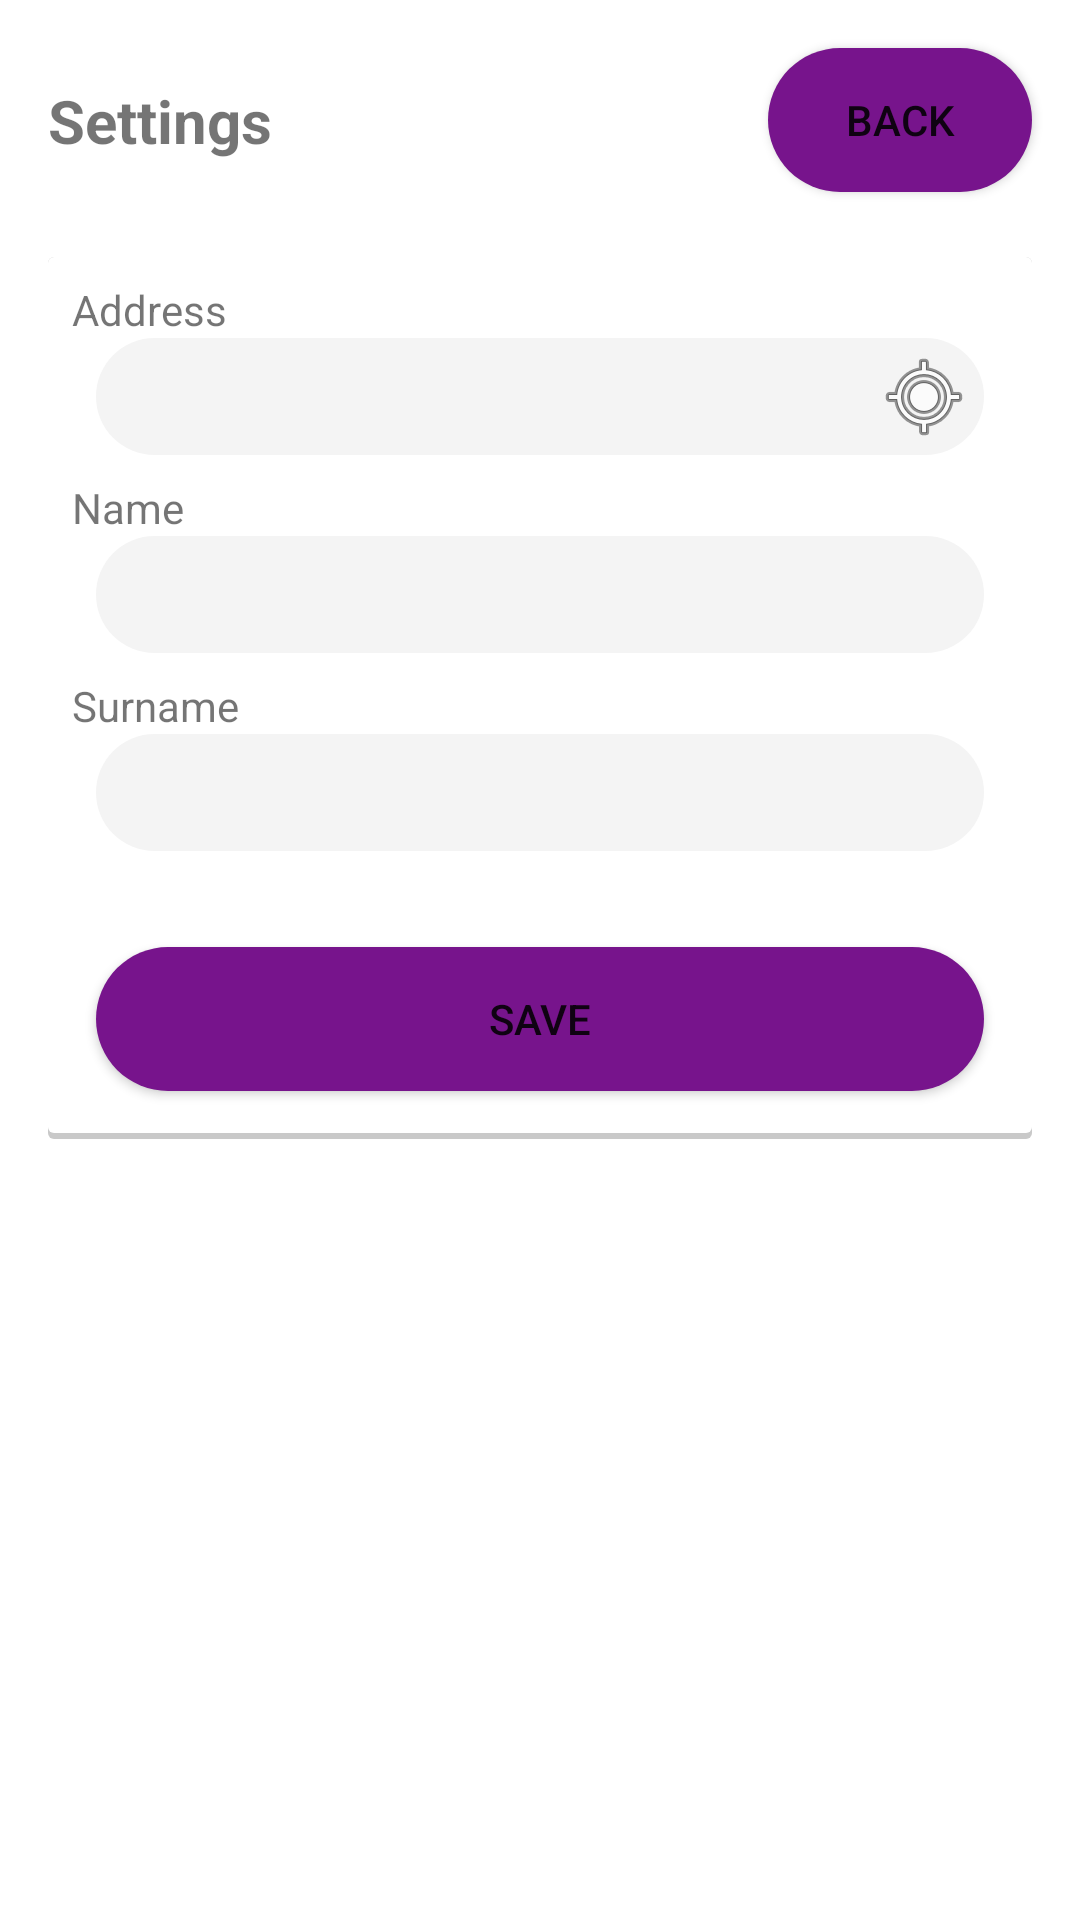

Icon bounding boxes for this 1080 × 1920 phone screenshot, format (x1, y1, x2, y2):
mylocation: (886, 359, 962, 435)
